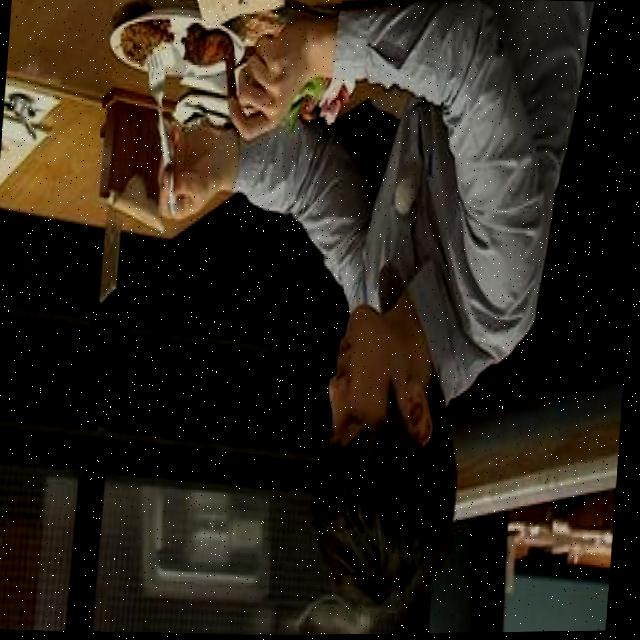eating-person: (90, 0, 613, 639)
